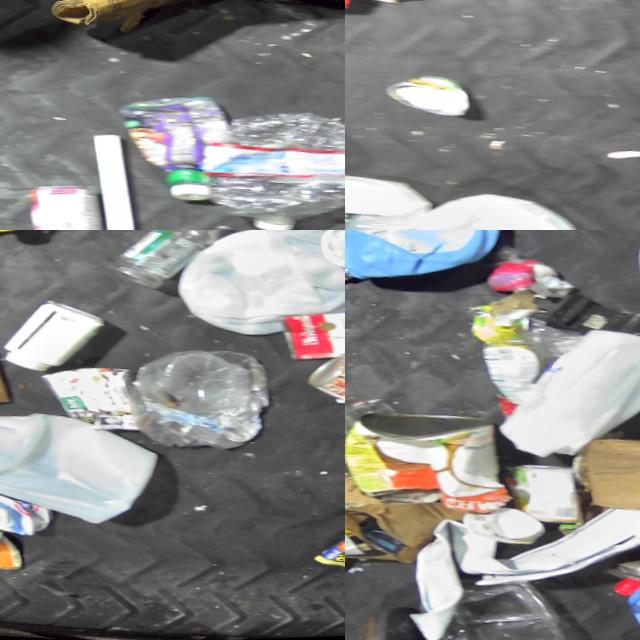can: (345, 402, 517, 515), (35, 360, 147, 438), (501, 460, 589, 529), (383, 68, 476, 124), (275, 306, 345, 370), (20, 178, 106, 230), (302, 353, 345, 416), (311, 525, 345, 583), (0, 519, 27, 576)
milk_jug: (0, 397, 163, 537), (494, 319, 640, 473), (171, 230, 345, 354), (402, 182, 594, 230), (345, 161, 433, 230)
non_white_jug: (345, 230, 507, 293)
plastic_bottle: (201, 101, 345, 230), (105, 230, 251, 301), (133, 346, 253, 420), (345, 380, 398, 498)
